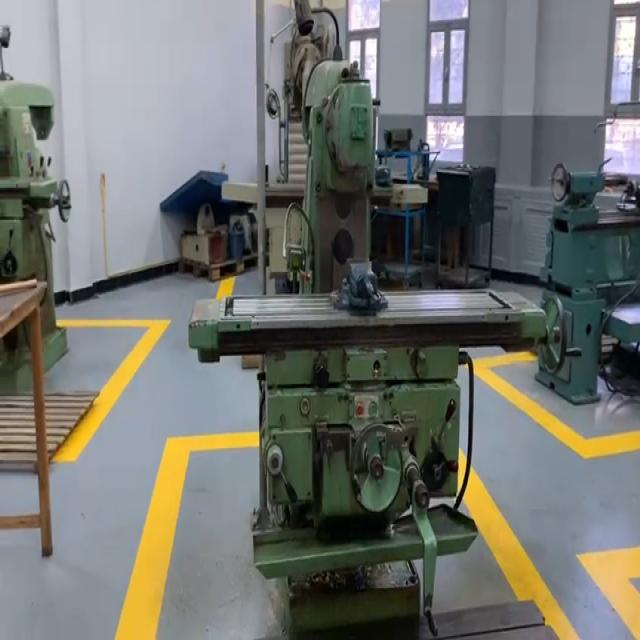fraiseuse: (189, 61, 546, 640)
